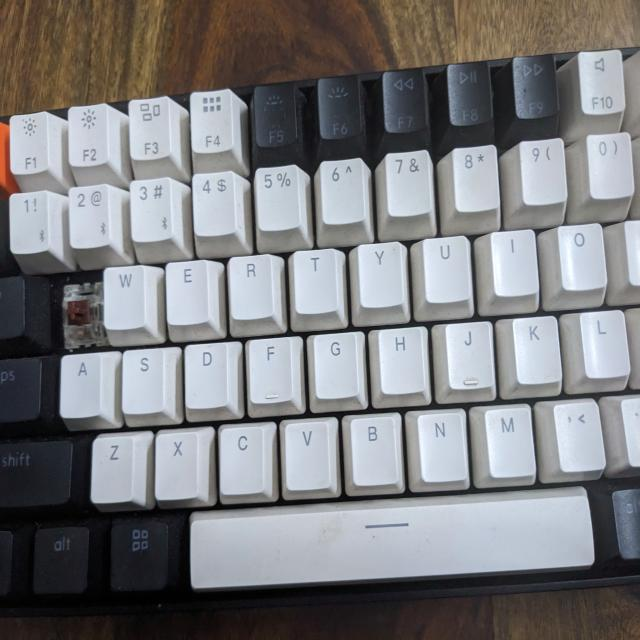C: (60, 276, 101, 348)
